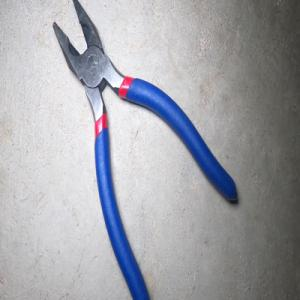Pliers: (52, 0, 237, 300)
